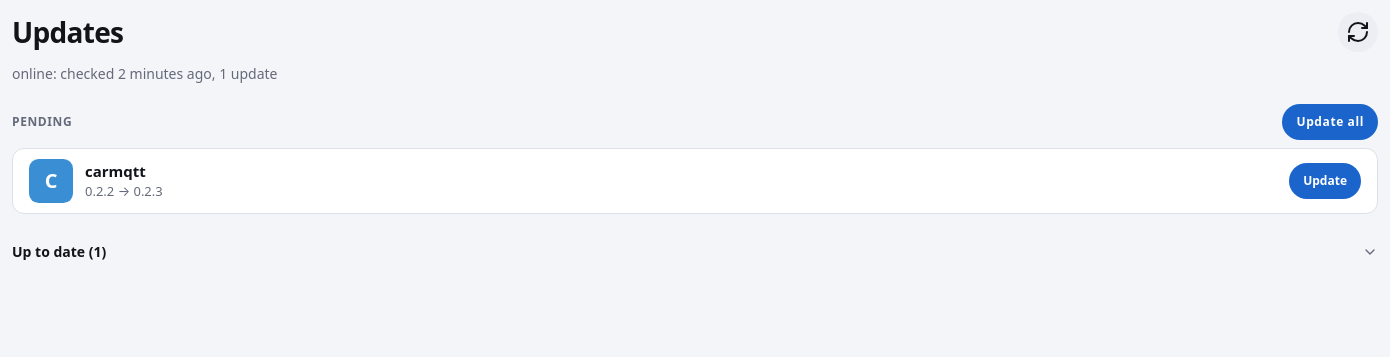
Test case: Updates › puts pending updates first and folds the up-to-date ones away
Expected: the text "carmqtt" is shown, [85,161,146,181]
Expected: the text "mb2q-logs" is not shown
Click the button "Up to date (1)": click(53, 252) [12,234,1378,270]
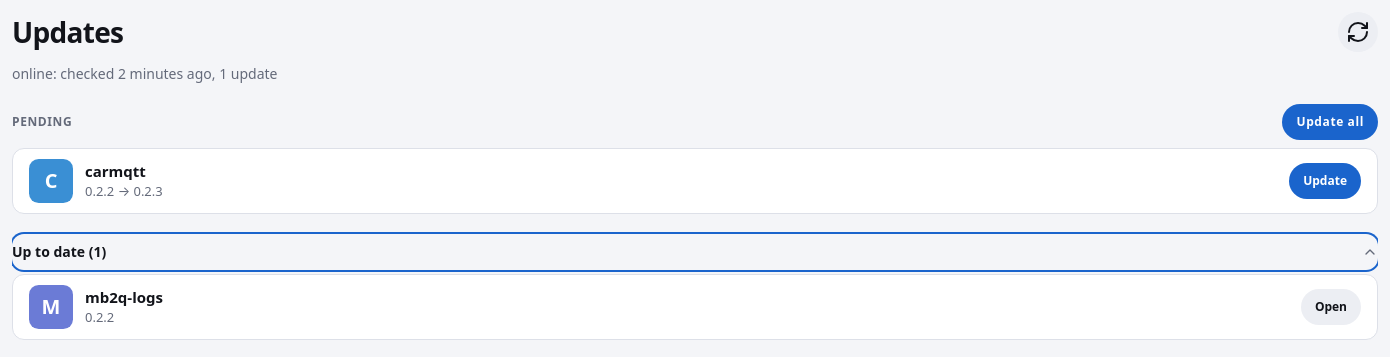
Now the text "mb2q-logs" is shown, box [85,287,163,307]
